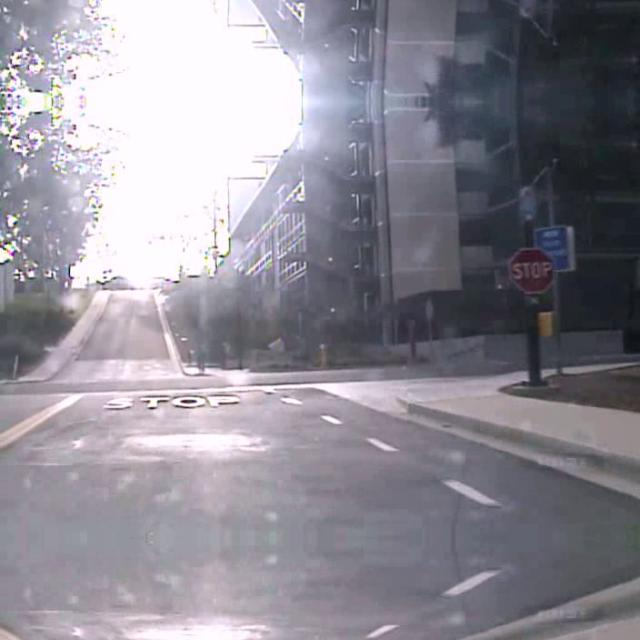stop: (507, 245, 555, 292)
